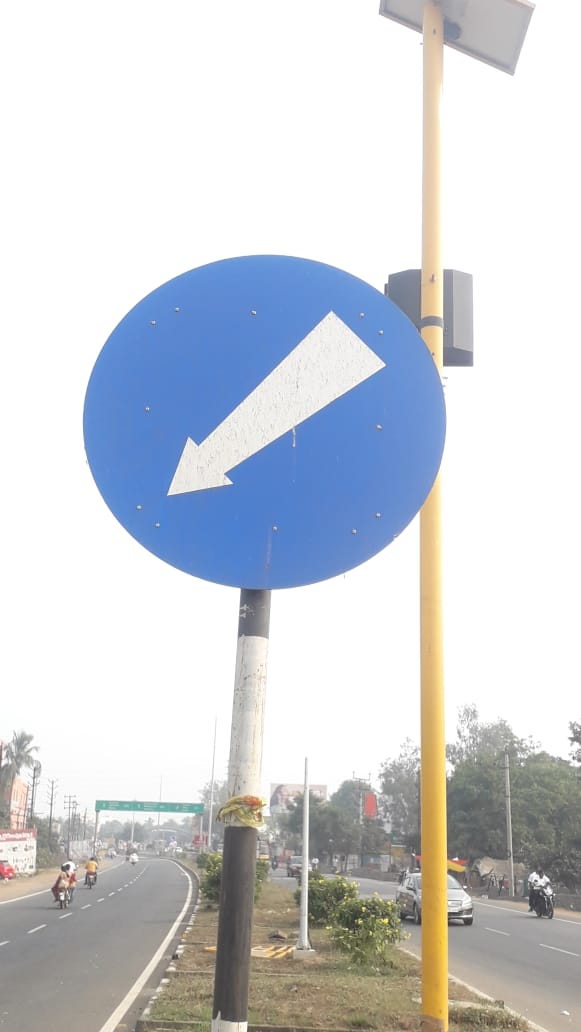go left: (71, 226, 448, 632)
